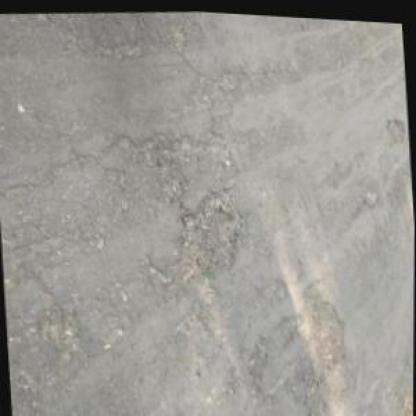pothole: (173, 190, 248, 287), (311, 294, 348, 370), (382, 111, 407, 146)
